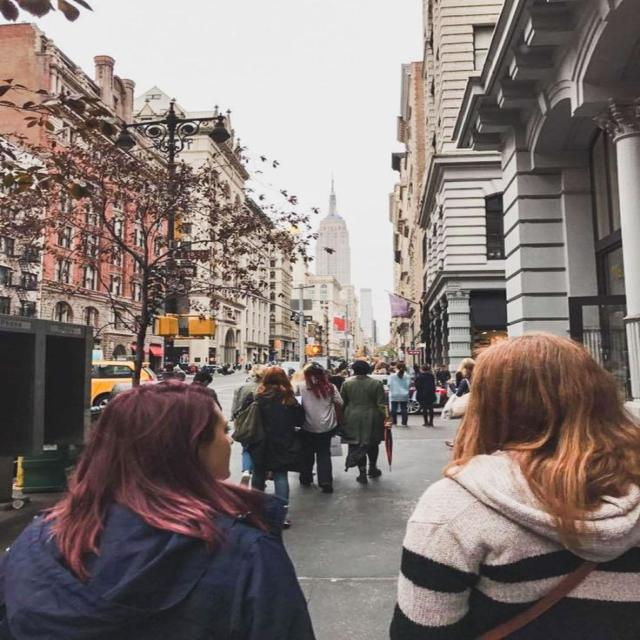body: (0, 380, 328, 640), (384, 328, 639, 640), (229, 365, 308, 530), (330, 360, 395, 486), (293, 365, 344, 493), (227, 364, 270, 486), (439, 362, 476, 448), (384, 362, 412, 429), (188, 370, 224, 412), (415, 364, 438, 427), (139, 361, 270, 371), (453, 357, 474, 383), (323, 362, 355, 379), (435, 363, 451, 389), (372, 359, 401, 373), (395, 360, 408, 380), (411, 362, 421, 377), (284, 365, 296, 375)
